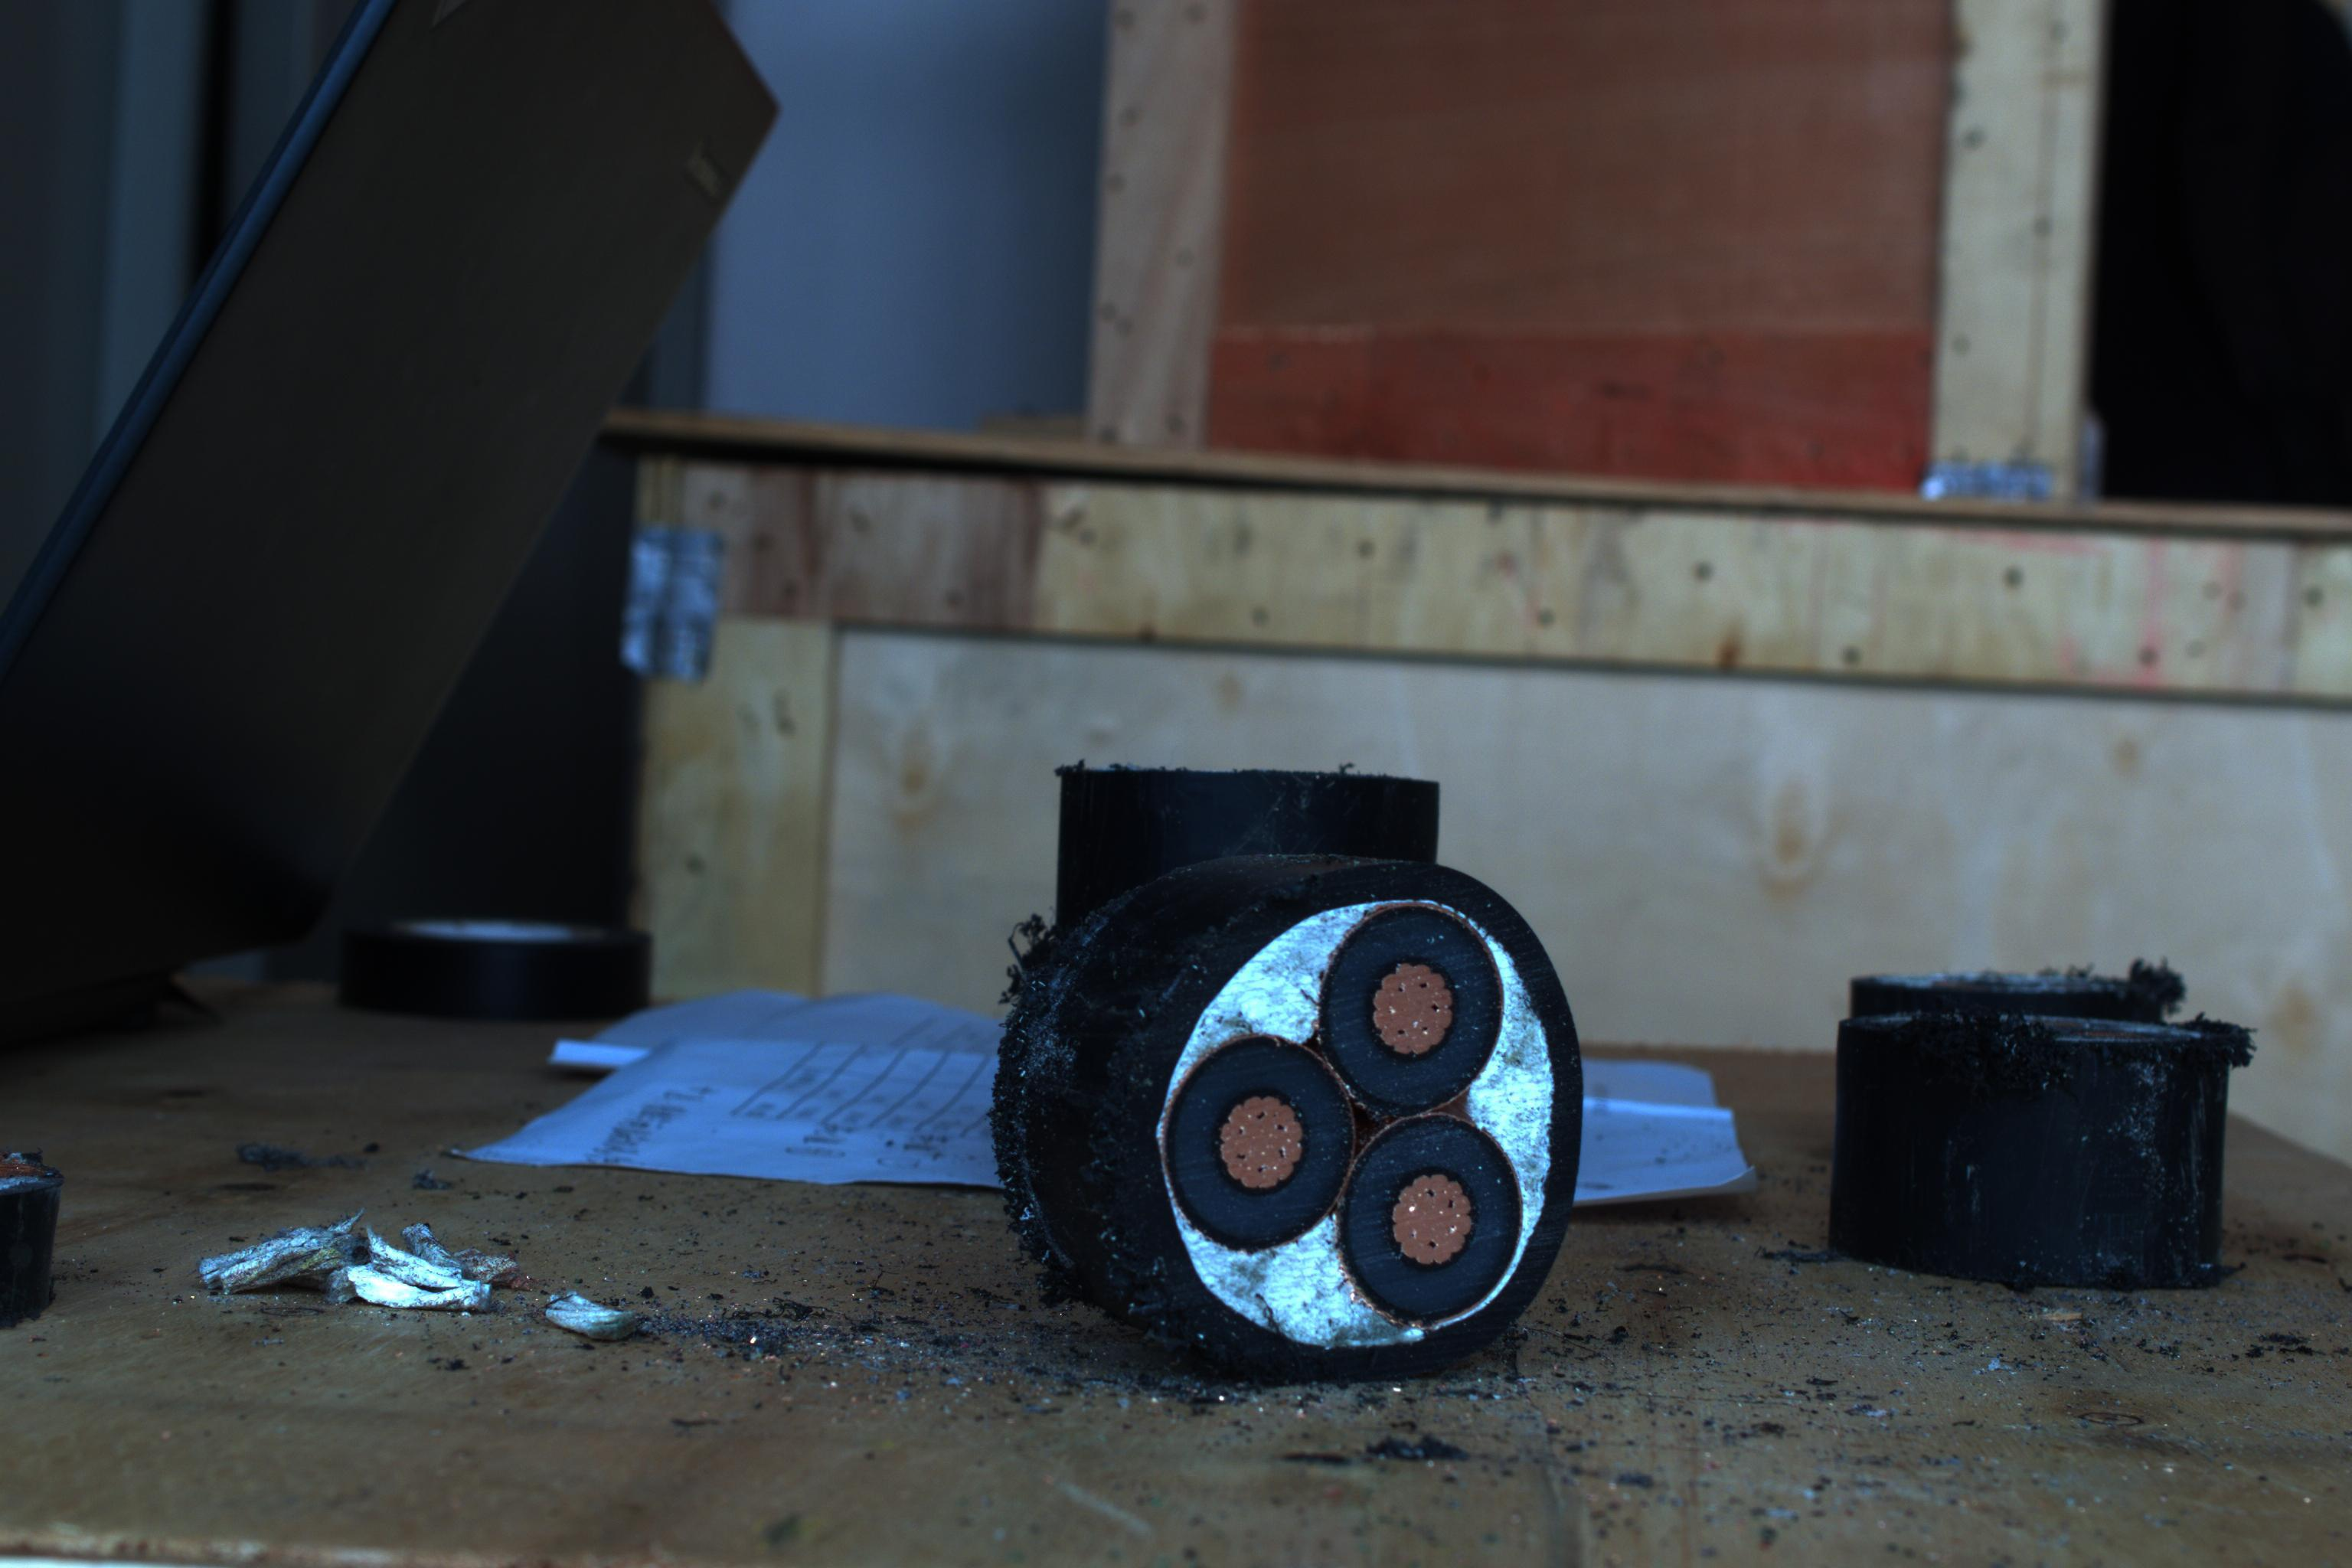YJV_8.7_10kV_3x70: (1094, 861, 1605, 1368)
